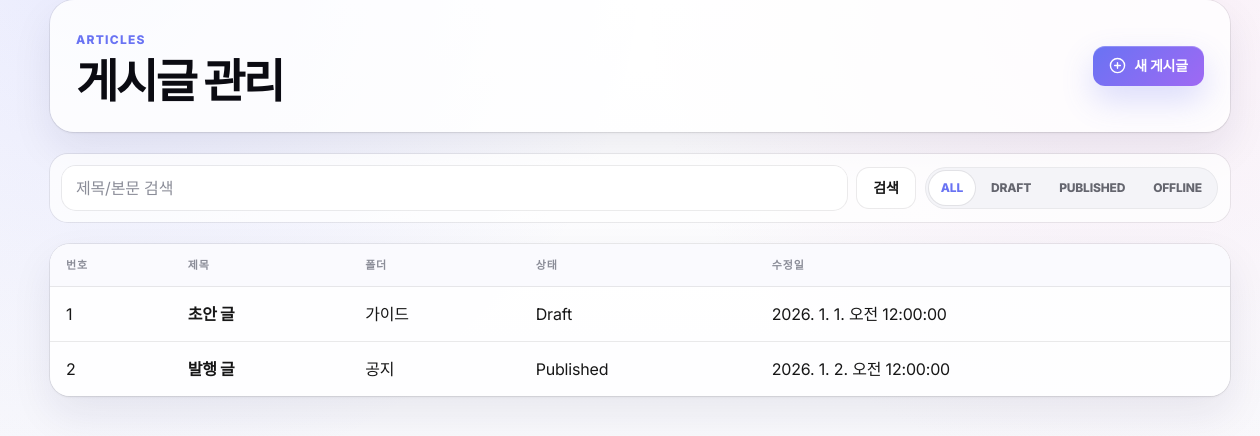
Test: ArticleListPage › 관리자 게시글 목록을 렌더링하고 상태 필터를 적용한다
Expected: the text "초안 글" is shown, [188,304,234,324]
Expected: the text "발행 글" is shown, [188,359,234,379]
Click the button "DRAFT" at (1011, 188), box [979,171,1043,205]
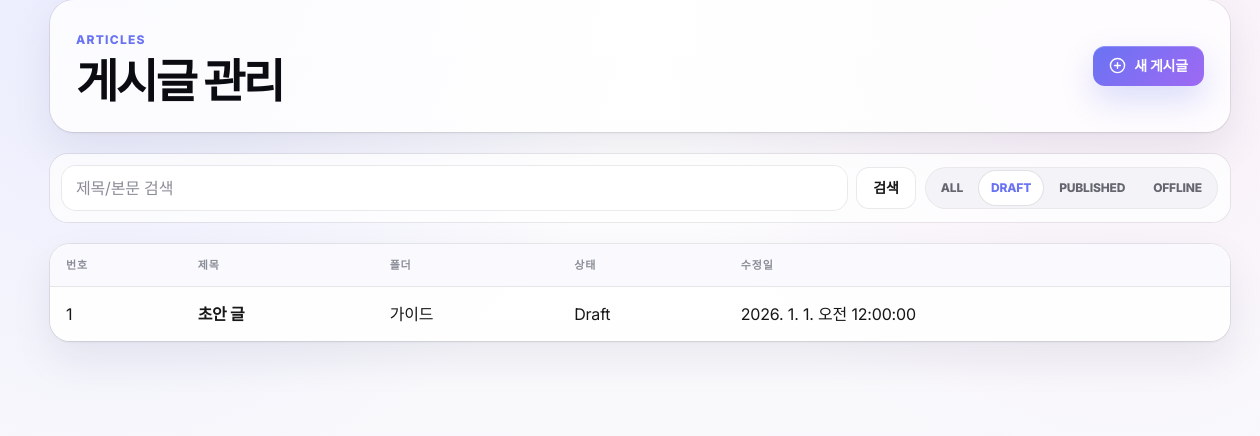
Expected: the text "초안 글" is shown, [198,304,244,324]
Expected: the text "발행 글" is gone
